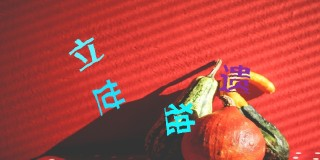世: (91, 79, 126, 116)
独: (163, 101, 196, 136)
立: (68, 36, 104, 72)
遗: (220, 64, 252, 93)
